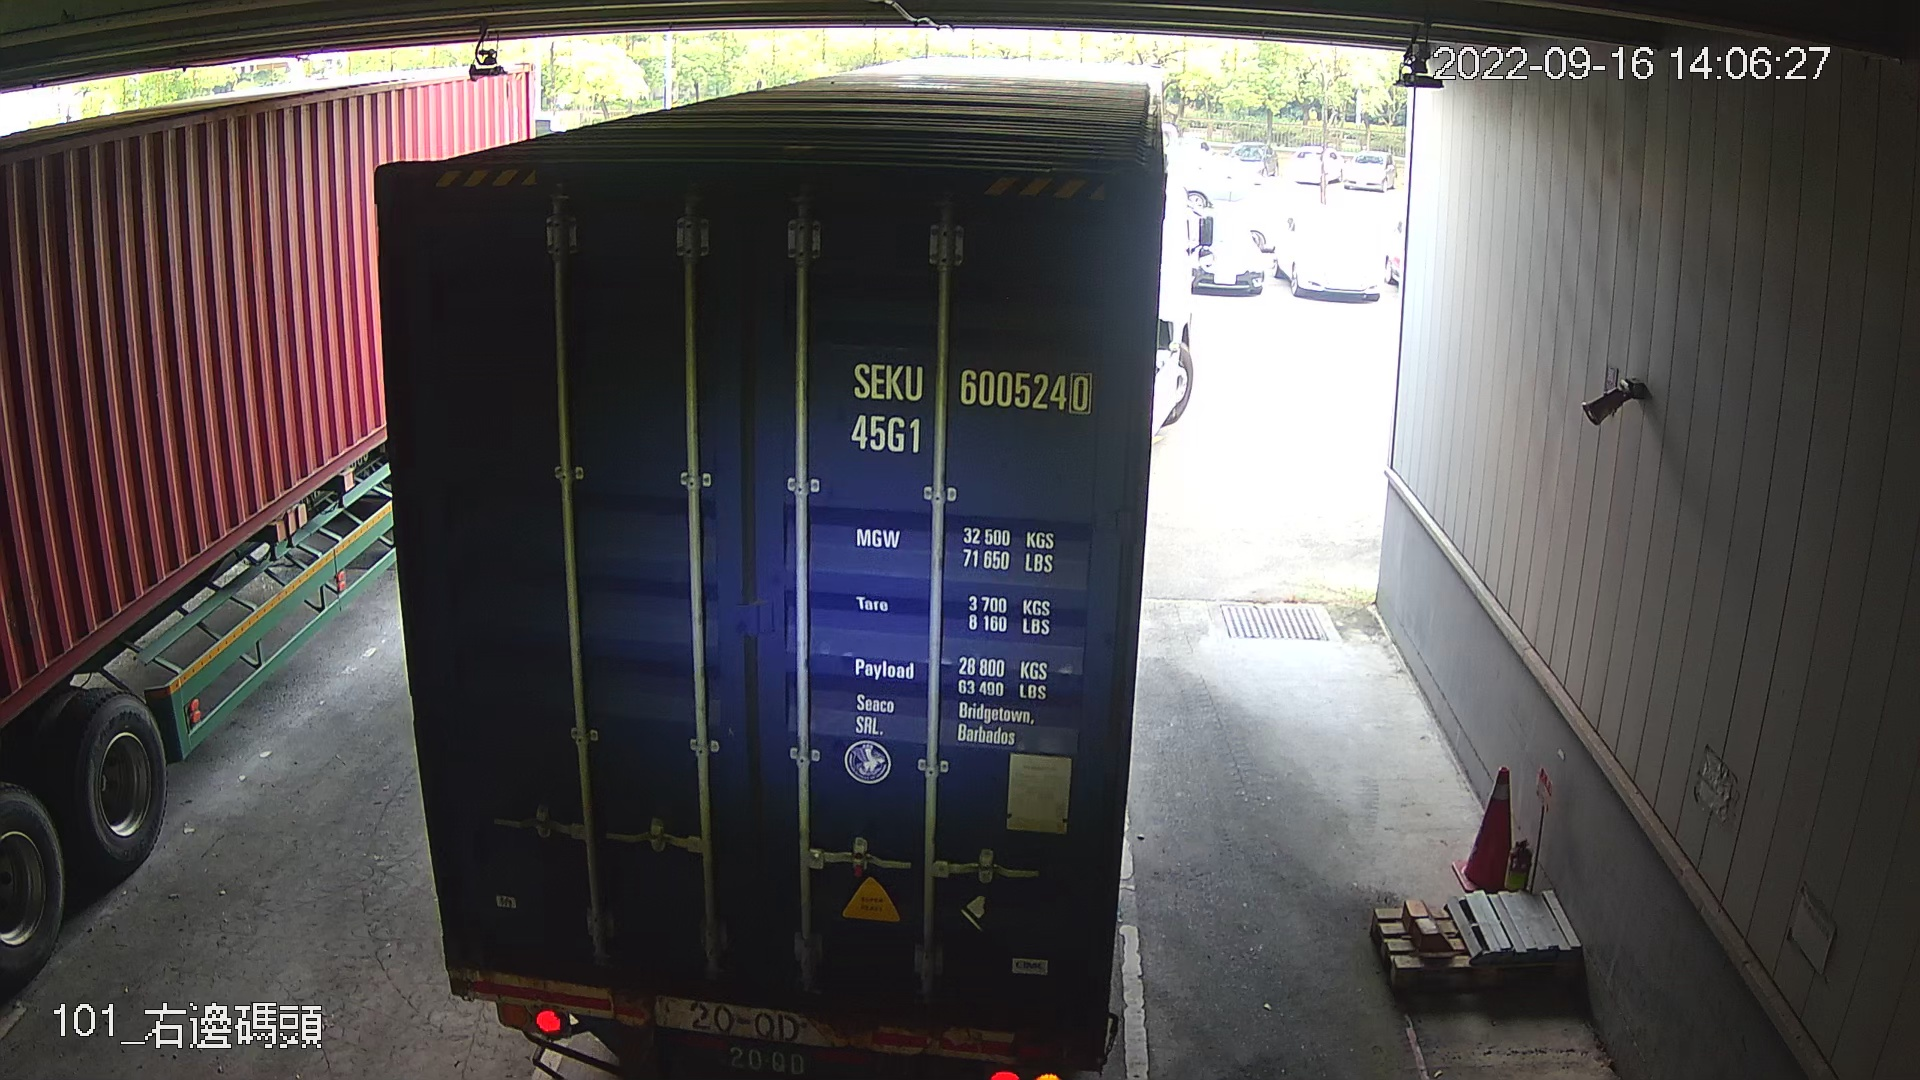container: (841, 353, 1098, 463)
